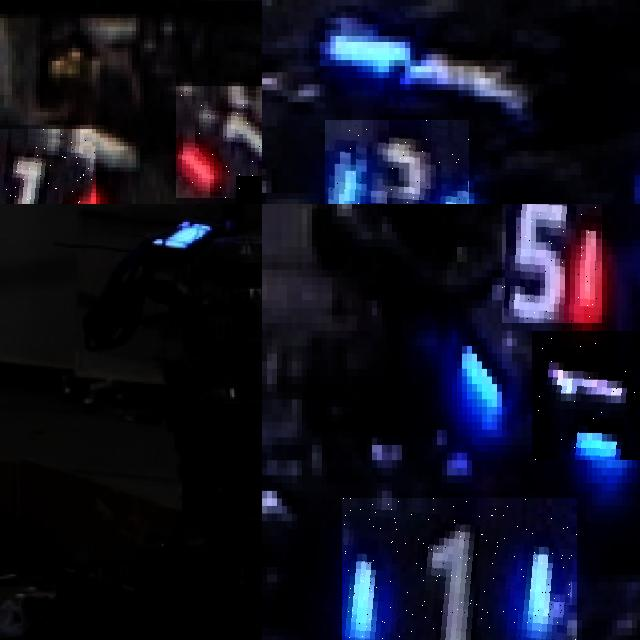B1: (342, 498, 577, 640), (532, 330, 640, 460)
B3: (325, 120, 469, 204)
R1: (176, 86, 262, 197), (0, 129, 96, 204)
R5: (502, 204, 602, 323)
